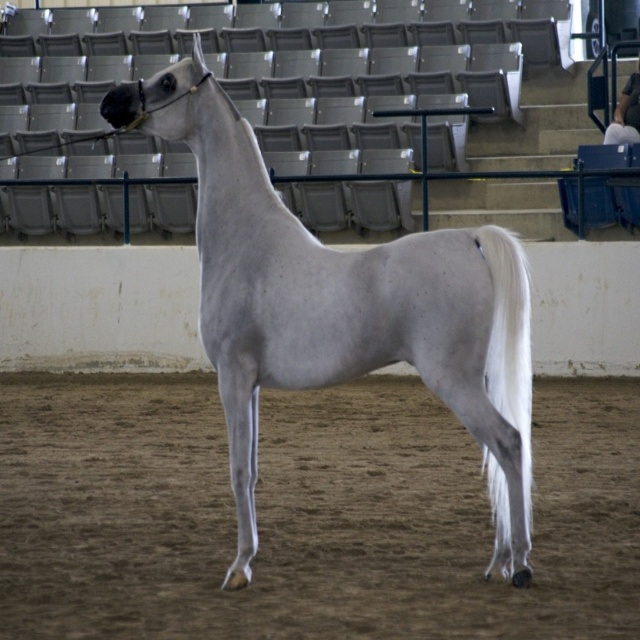Horse: (101, 26, 533, 591)
